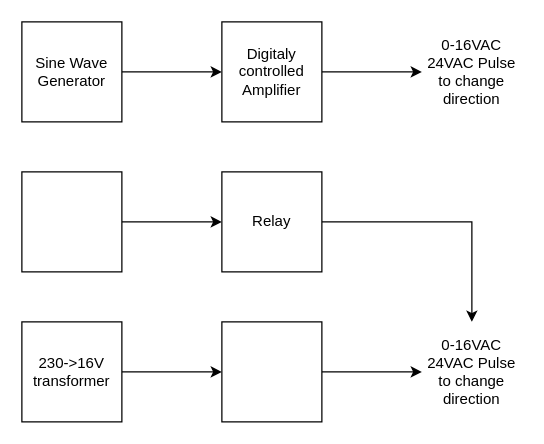
This 544x444 diagram has some shape labels left out. The centre of each missing label's shape, as x and y in pixels:
"230->24V transformer" belongs at (71,221).
"Phase Angle Control Circuit" belongs at (271,371).
